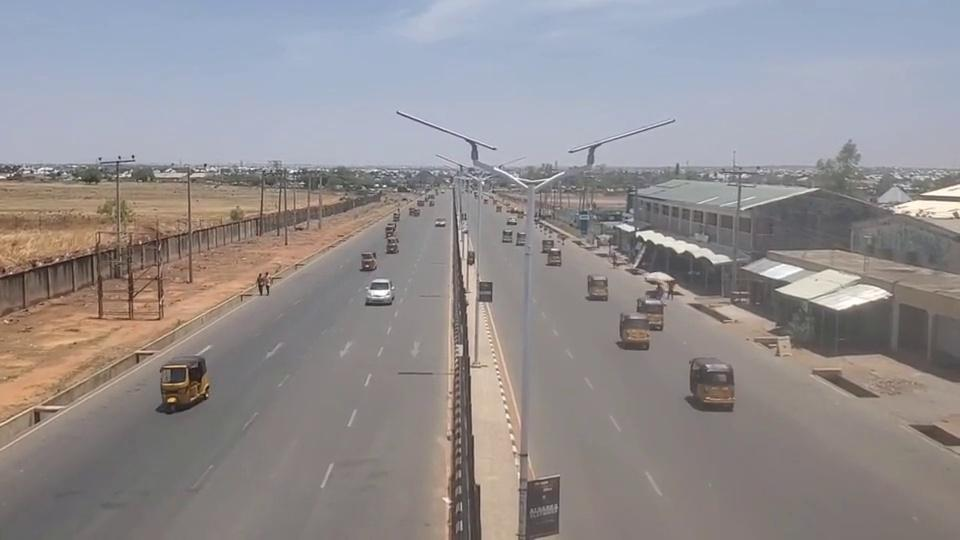keke: (159, 354, 210, 412), (688, 356, 735, 410)
